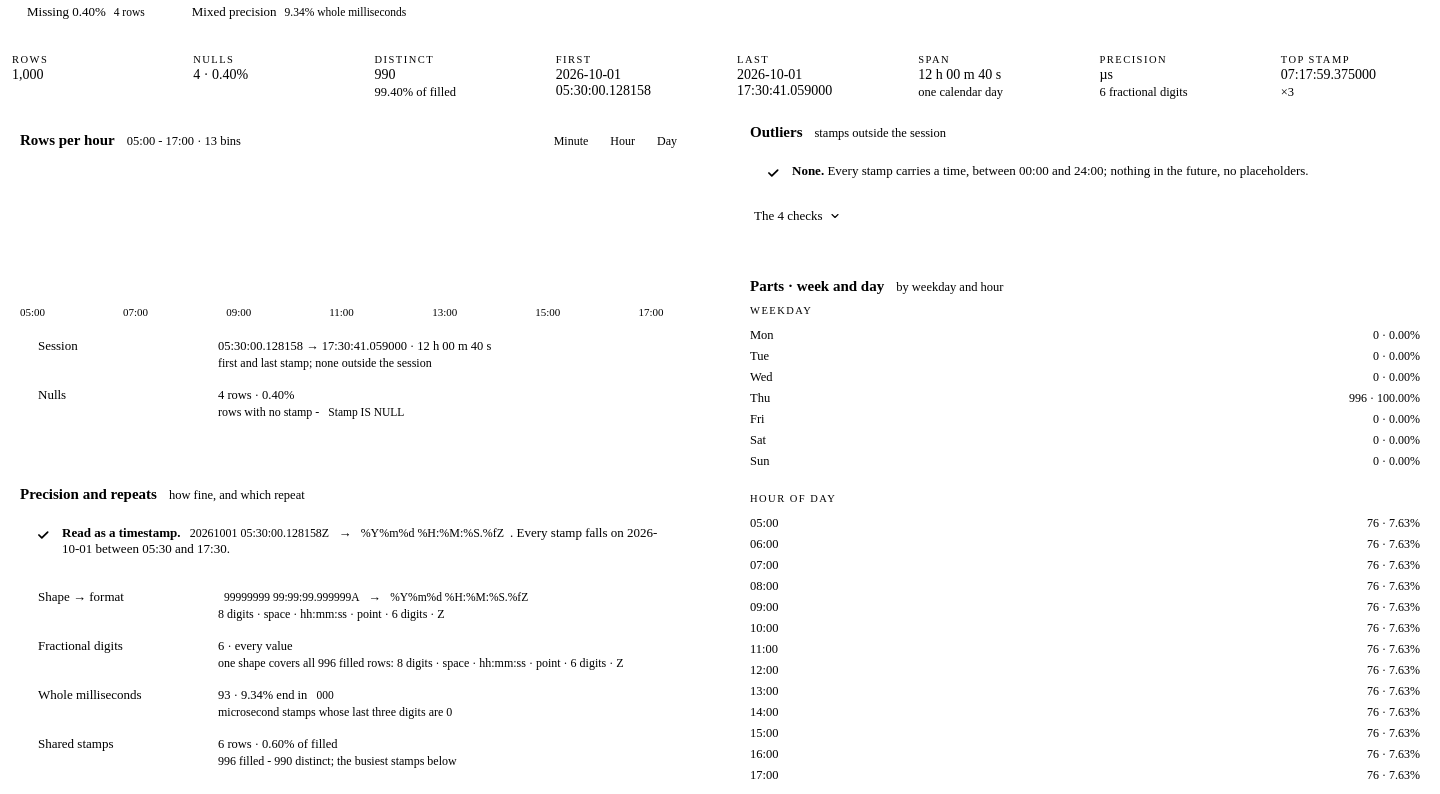
it: text stamps: the findings row, shape to format, the session fence and the parts by weekday and hour
expect the text "Missing 0.40%" is shown: met, box [27,4,106,20]
expect the text "4 rows" is shown: met, box [114,6,145,18]
Click the button "The 4 checks" at (797, 216), box [744,200,851,232]
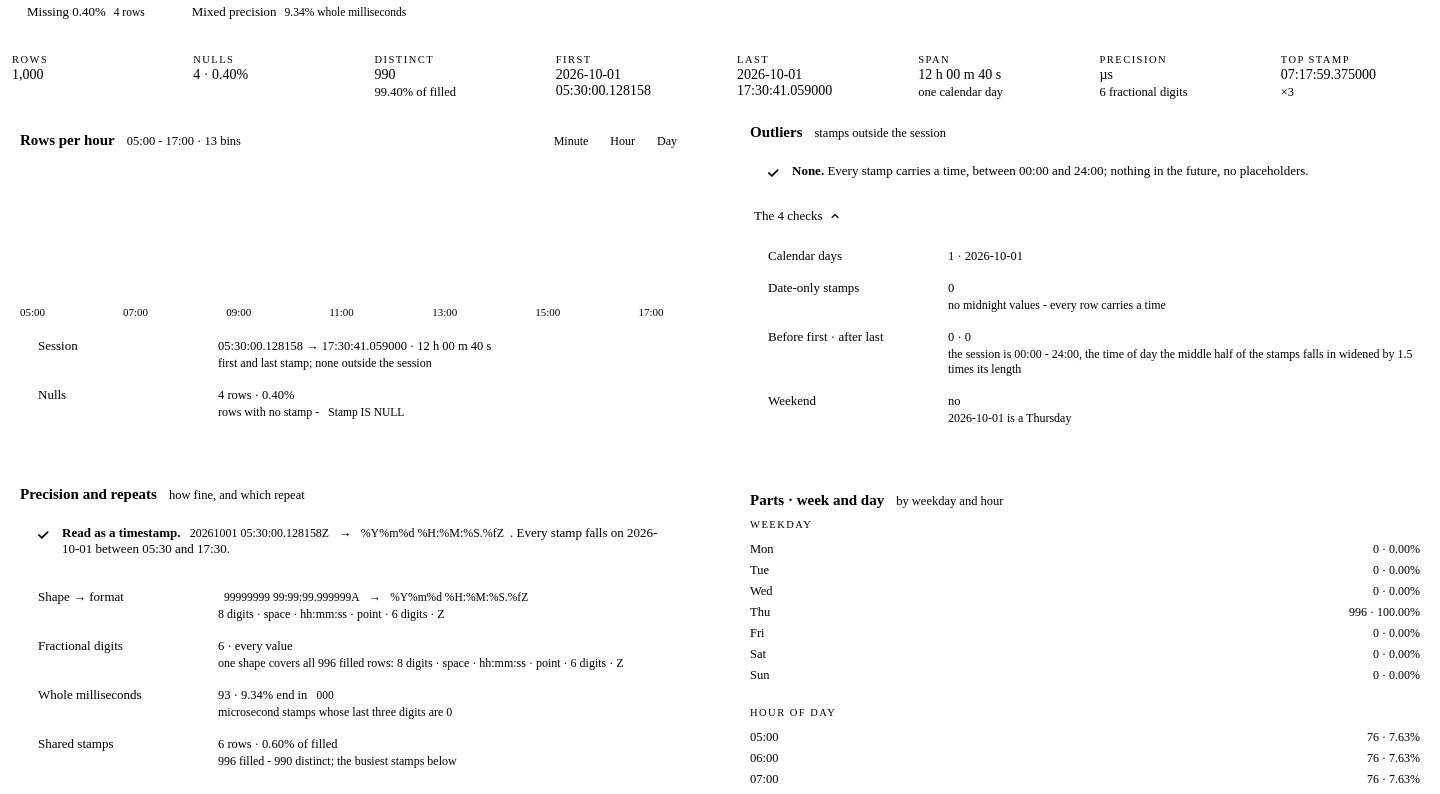
expect the heading "Parts · week and day" is shown: met, box [750,492,884,509]
expect the text "0 · 0" is shown: met, box [948,330,971,344]
